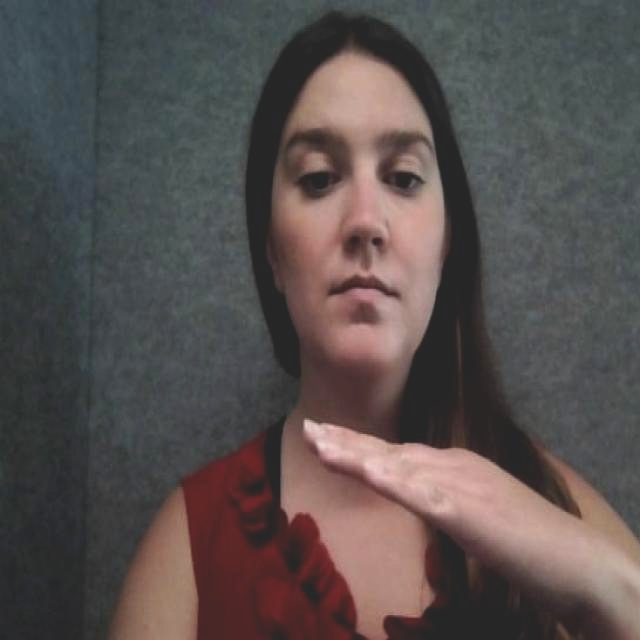Paper: (299, 390, 598, 593)
